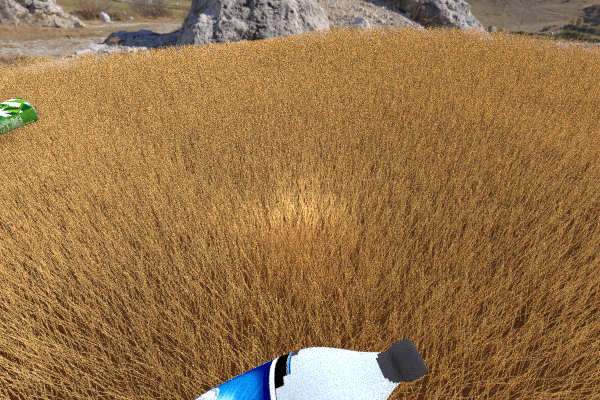bottle: (36, 339, 426, 400)
can: (0, 97, 38, 138)
